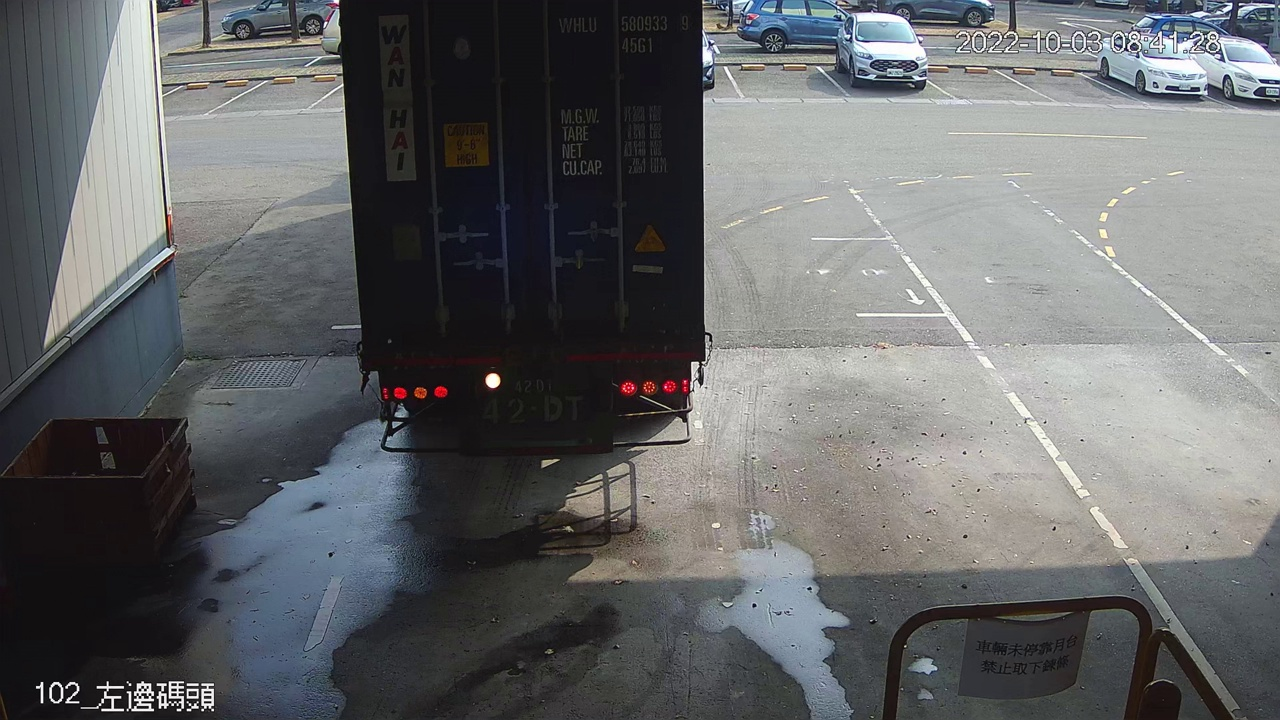container: (553, 9, 696, 57)
